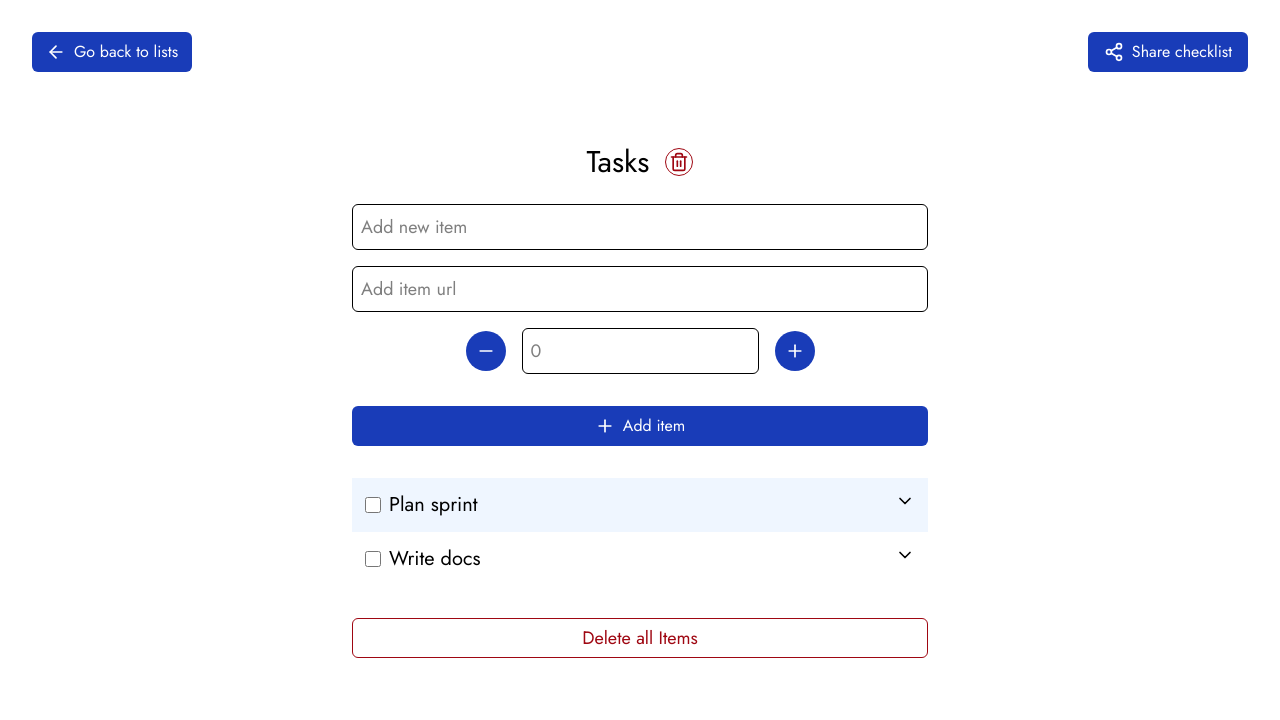
Checklist › deletes all items when the delete-all API succeeds
The image size is (1280, 720).
Expected: the text "Plan sprint" is shown, [389,491,478,519]
Expected: the text "Write docs" is shown, [389,545,480,573]
Click the button "Delete all Items" at (640, 638), box [352,618,928,658]
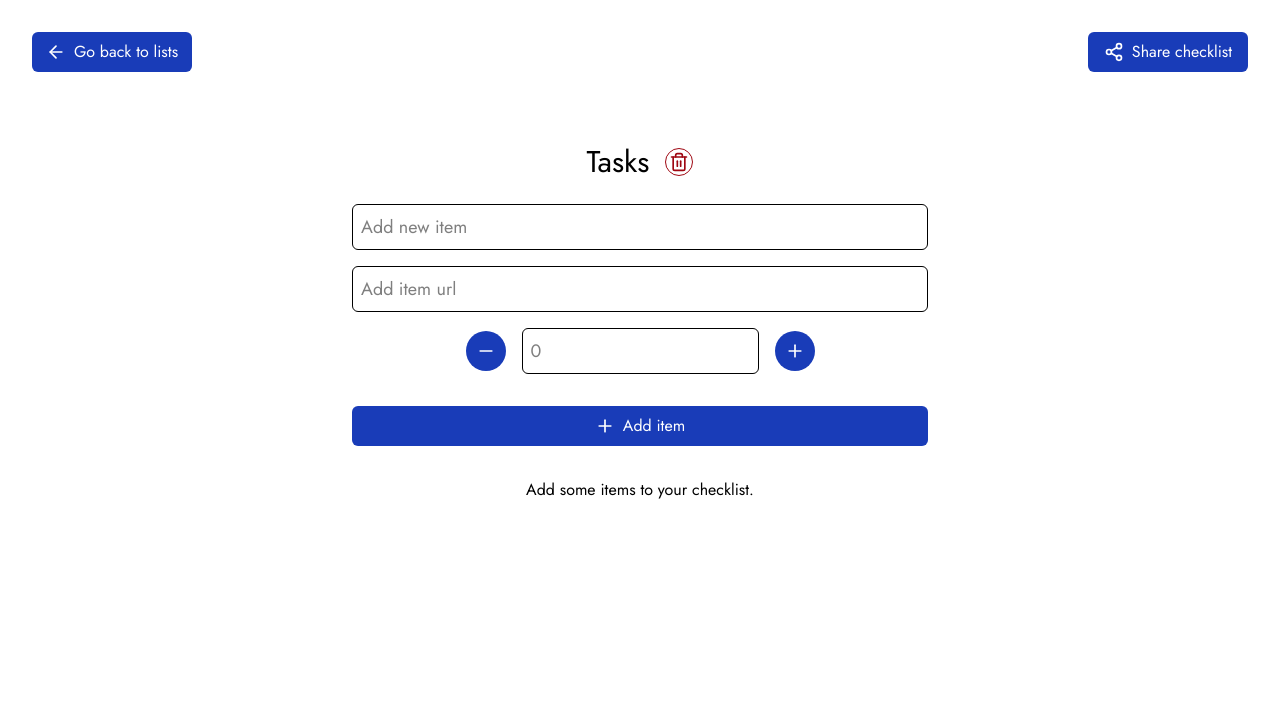
Expected: the button "Plan sprint" is gone
Expected: the button "Write docs" is gone
Expected: the text "Add some items to your checklist." is shown, [526,478,754,501]
